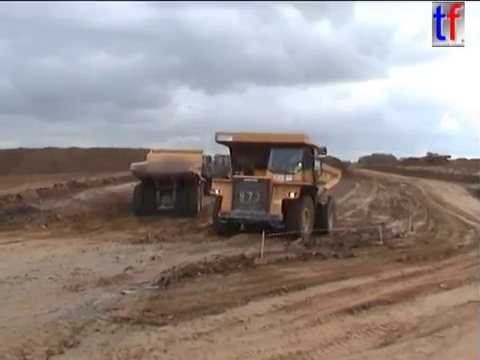excavator: (268, 134, 329, 160)
truck: (204, 130, 346, 245), (128, 147, 212, 218), (201, 151, 250, 198)
